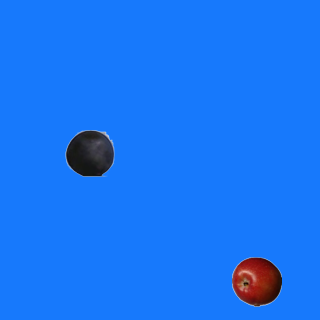Apple Braeburn: (231, 256, 281, 306)
Grape Blue: (64, 127, 114, 177)
